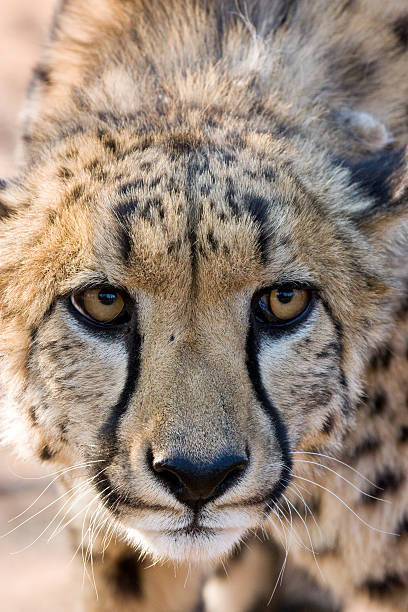cheetah: (1, 132, 408, 598)
